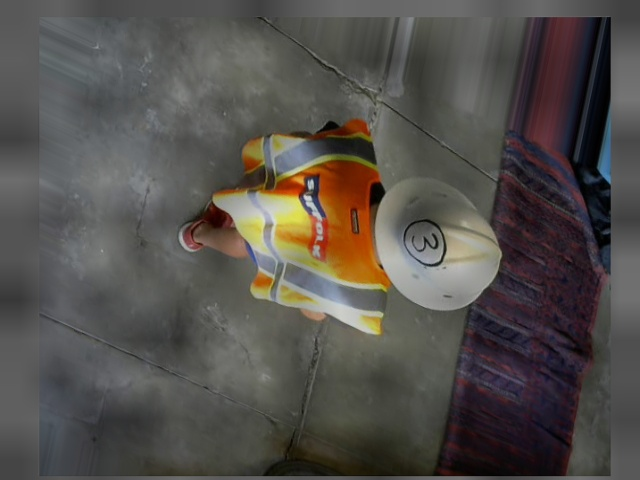three: (398, 210, 450, 274)
